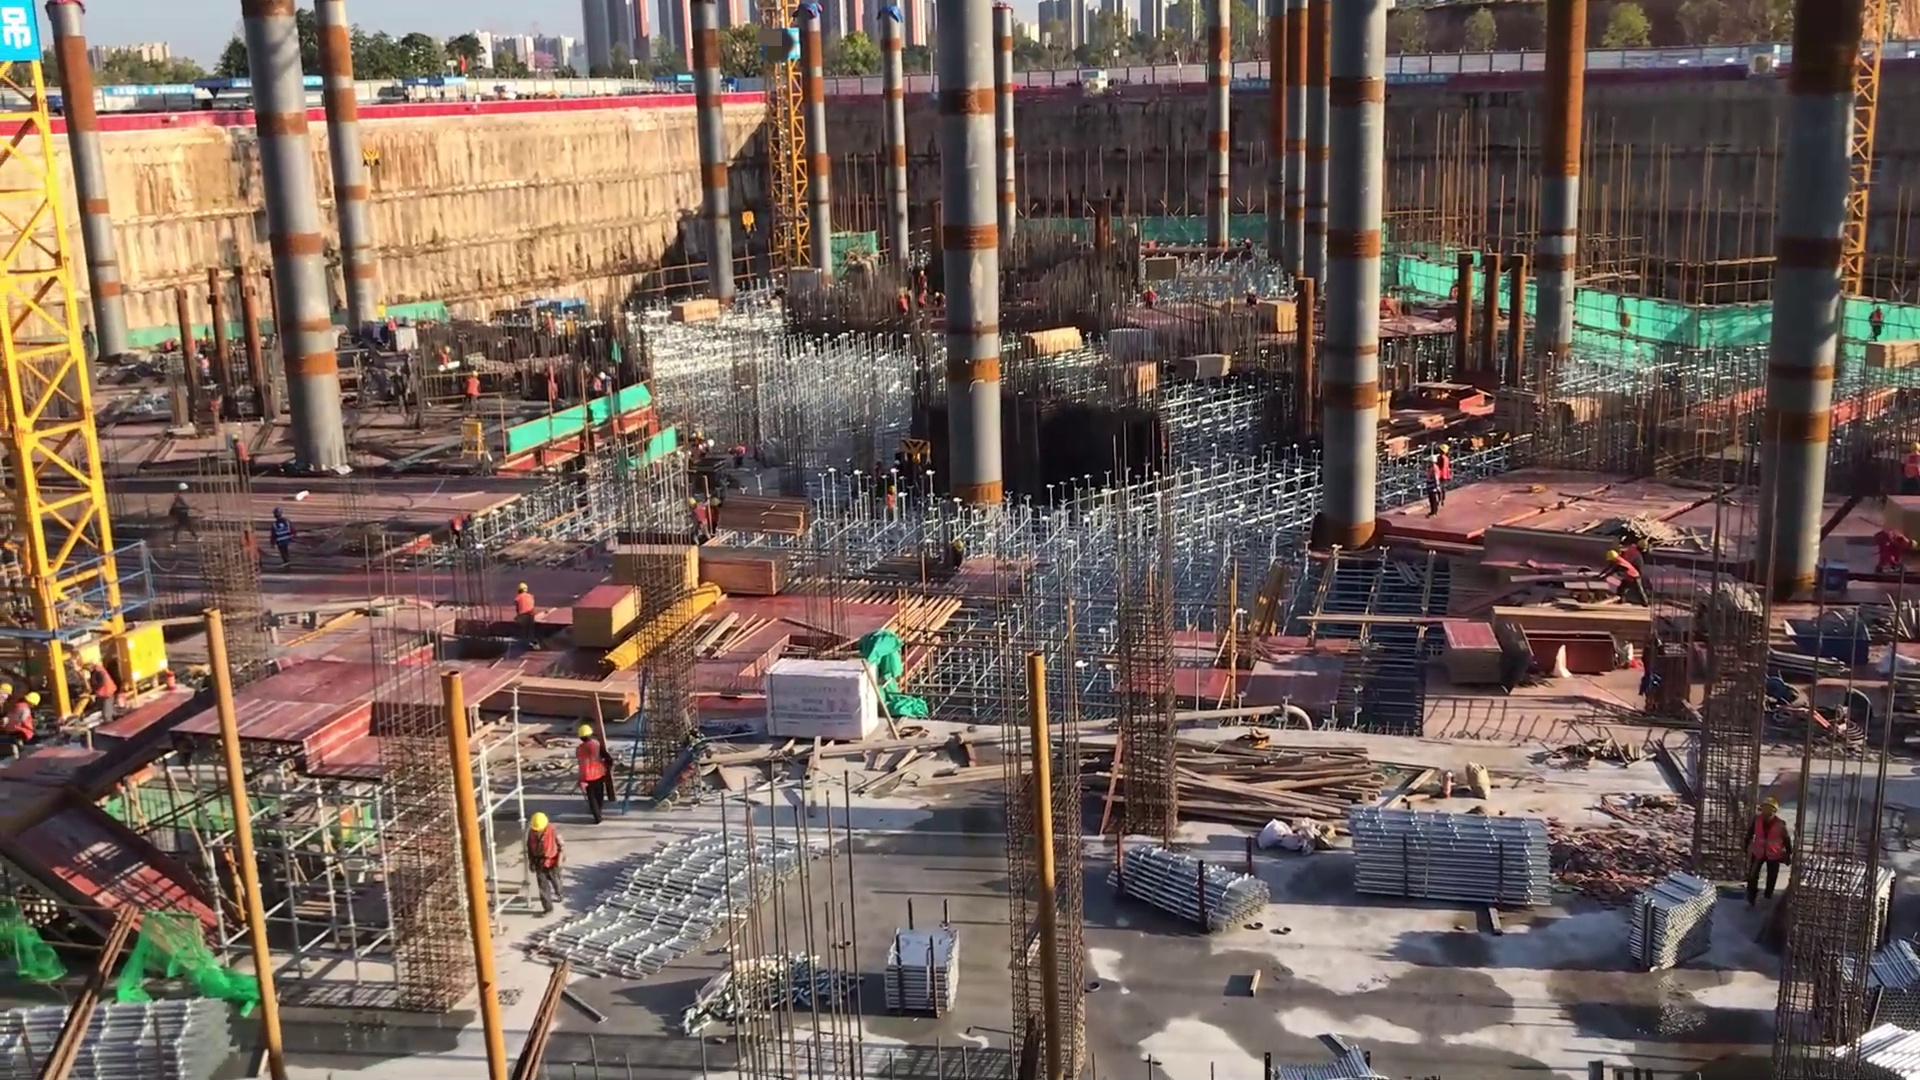board: (612, 544, 694, 609), (570, 583, 641, 650), (1448, 618, 1506, 690)
ebox: (115, 613, 183, 699), (461, 416, 501, 471)
helmet: (1749, 816, 1791, 868), (573, 738, 609, 792), (526, 827, 560, 874), (7, 701, 37, 742), (269, 521, 294, 547), (531, 811, 554, 835), (514, 595, 537, 618), (578, 721, 596, 747), (24, 688, 42, 712), (76, 663, 95, 686), (174, 479, 195, 497), (1760, 797, 1780, 815), (271, 498, 286, 522), (1604, 546, 1621, 563), (1635, 535, 1650, 554), (1907, 534, 1919, 552), (230, 434, 242, 448), (517, 582, 530, 596), (1437, 444, 1449, 457), (687, 496, 699, 508), (1907, 443, 1920, 454), (1875, 302, 1884, 315), (1427, 453, 1437, 464), (597, 370, 610, 379), (443, 344, 452, 355), (470, 370, 479, 381), (888, 484, 897, 495)
hook: (1779, 617, 1886, 671), (734, 203, 765, 239), (359, 144, 390, 173)
person: (1745, 793, 1793, 913), (521, 810, 570, 917), (573, 724, 613, 828), (1597, 546, 1649, 608), (1603, 530, 1658, 587), (81, 661, 121, 731), (2, 688, 45, 756), (1872, 523, 1917, 572), (168, 480, 200, 546), (1255, 294, 1301, 340), (269, 505, 297, 574), (682, 496, 716, 548), (513, 580, 538, 650), (230, 432, 253, 485), (1426, 453, 1443, 519), (451, 508, 479, 547), (1903, 436, 1920, 497), (1437, 442, 1455, 498), (466, 367, 482, 420), (1870, 302, 1887, 350), (585, 368, 608, 404), (726, 444, 749, 469), (886, 483, 899, 525), (438, 342, 453, 376), (385, 315, 402, 346), (898, 290, 912, 323), (1143, 284, 1159, 312), (917, 267, 931, 296), (917, 290, 930, 313)
scaffold: (1, 970, 247, 1080), (1338, 807, 1572, 909), (1094, 830, 1280, 949), (1625, 870, 1729, 973), (1825, 945, 1920, 1034)
slogan: (1, 1, 47, 55), (1379, 70, 1456, 95), (1225, 78, 1277, 96)
vest: (1609, 556, 1642, 584), (1887, 528, 1907, 553), (1906, 450, 1920, 483)
wood: (1178, 744, 1377, 831), (1491, 605, 1664, 647), (504, 679, 637, 722), (689, 550, 790, 598), (711, 498, 818, 537), (1016, 328, 1091, 366), (675, 294, 725, 338), (1868, 340, 1920, 376), (1175, 352, 1228, 387)
